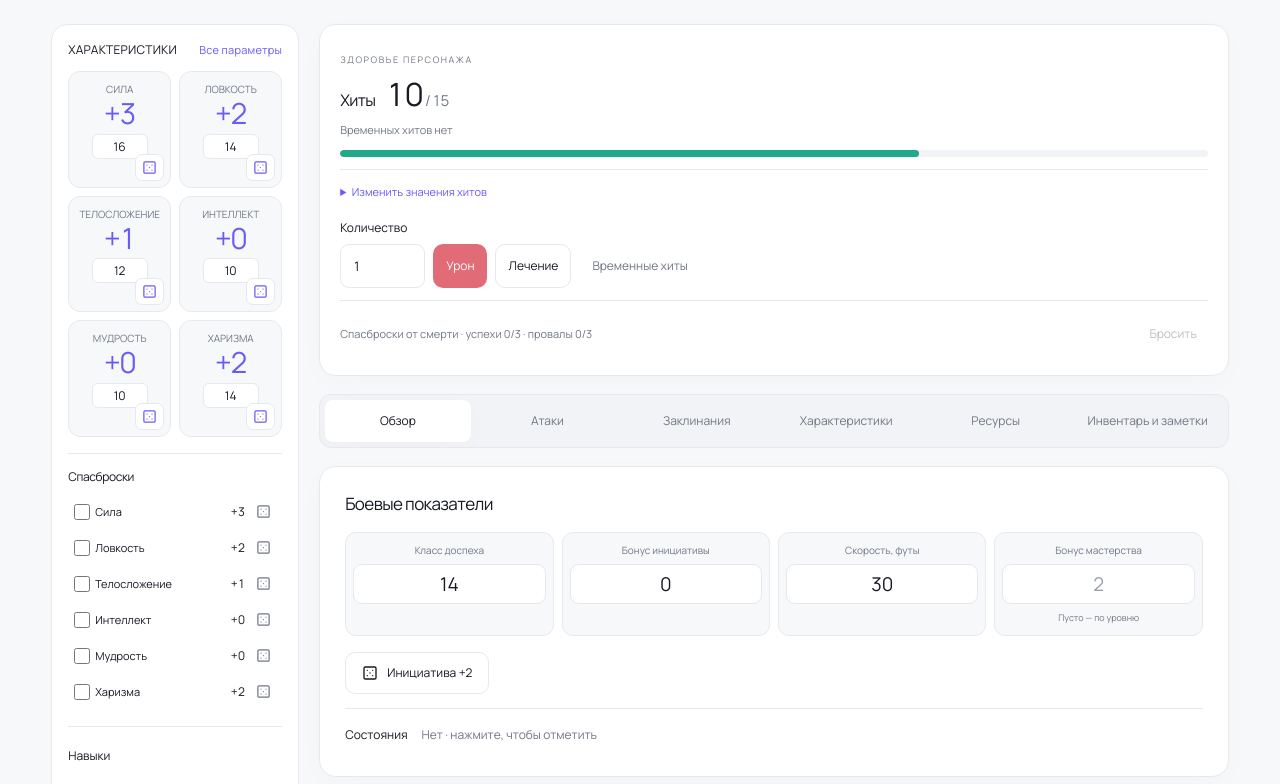
Test: sheet edits use real inputs and preserve a draft
(page scrolled)
Click the tab "Характеристики" at (846, 421), box [774, 400, 919, 442]
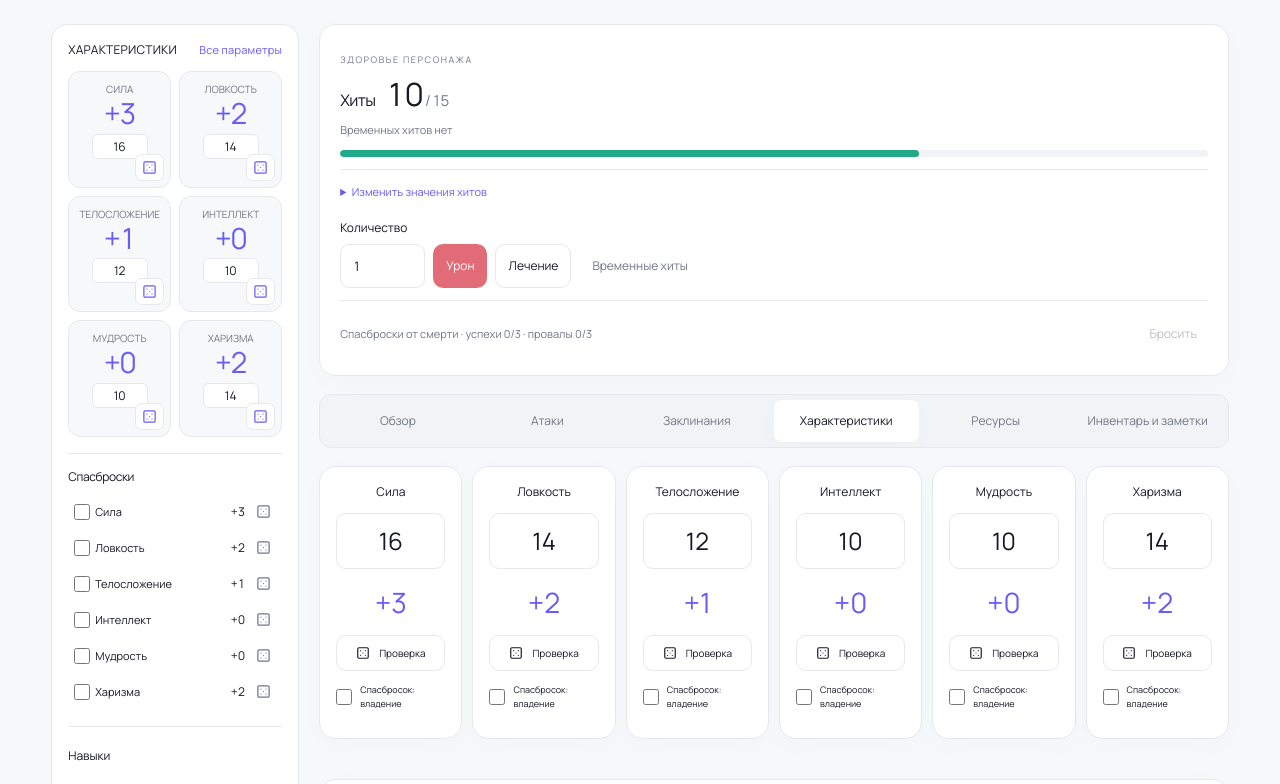
Replace the text in the number field labelled "Сила" with "18" at (391, 541), box [336, 513, 446, 569]
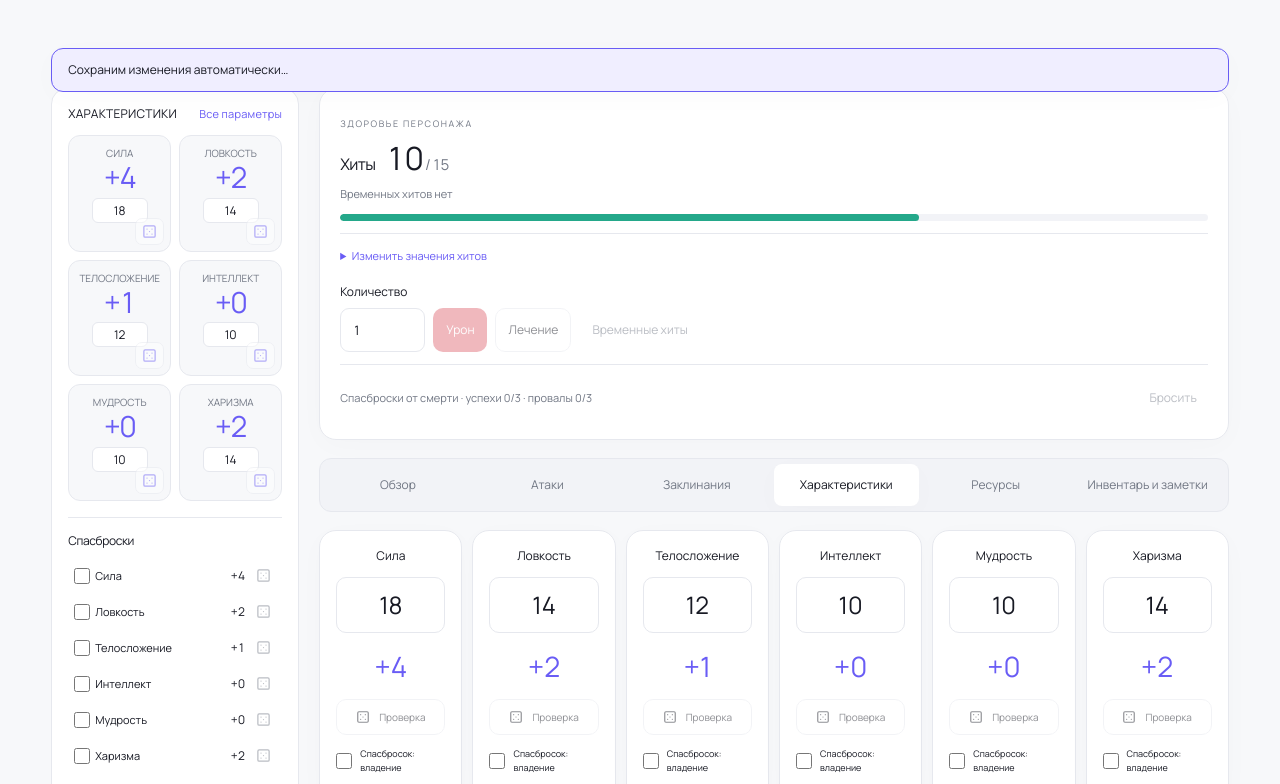
Result: the text "Сохраним изменения автоматически…" is shown at [68, 61, 288, 78]
Result: the 1st button "Проверка" is disabled at [336, 699, 446, 735]
